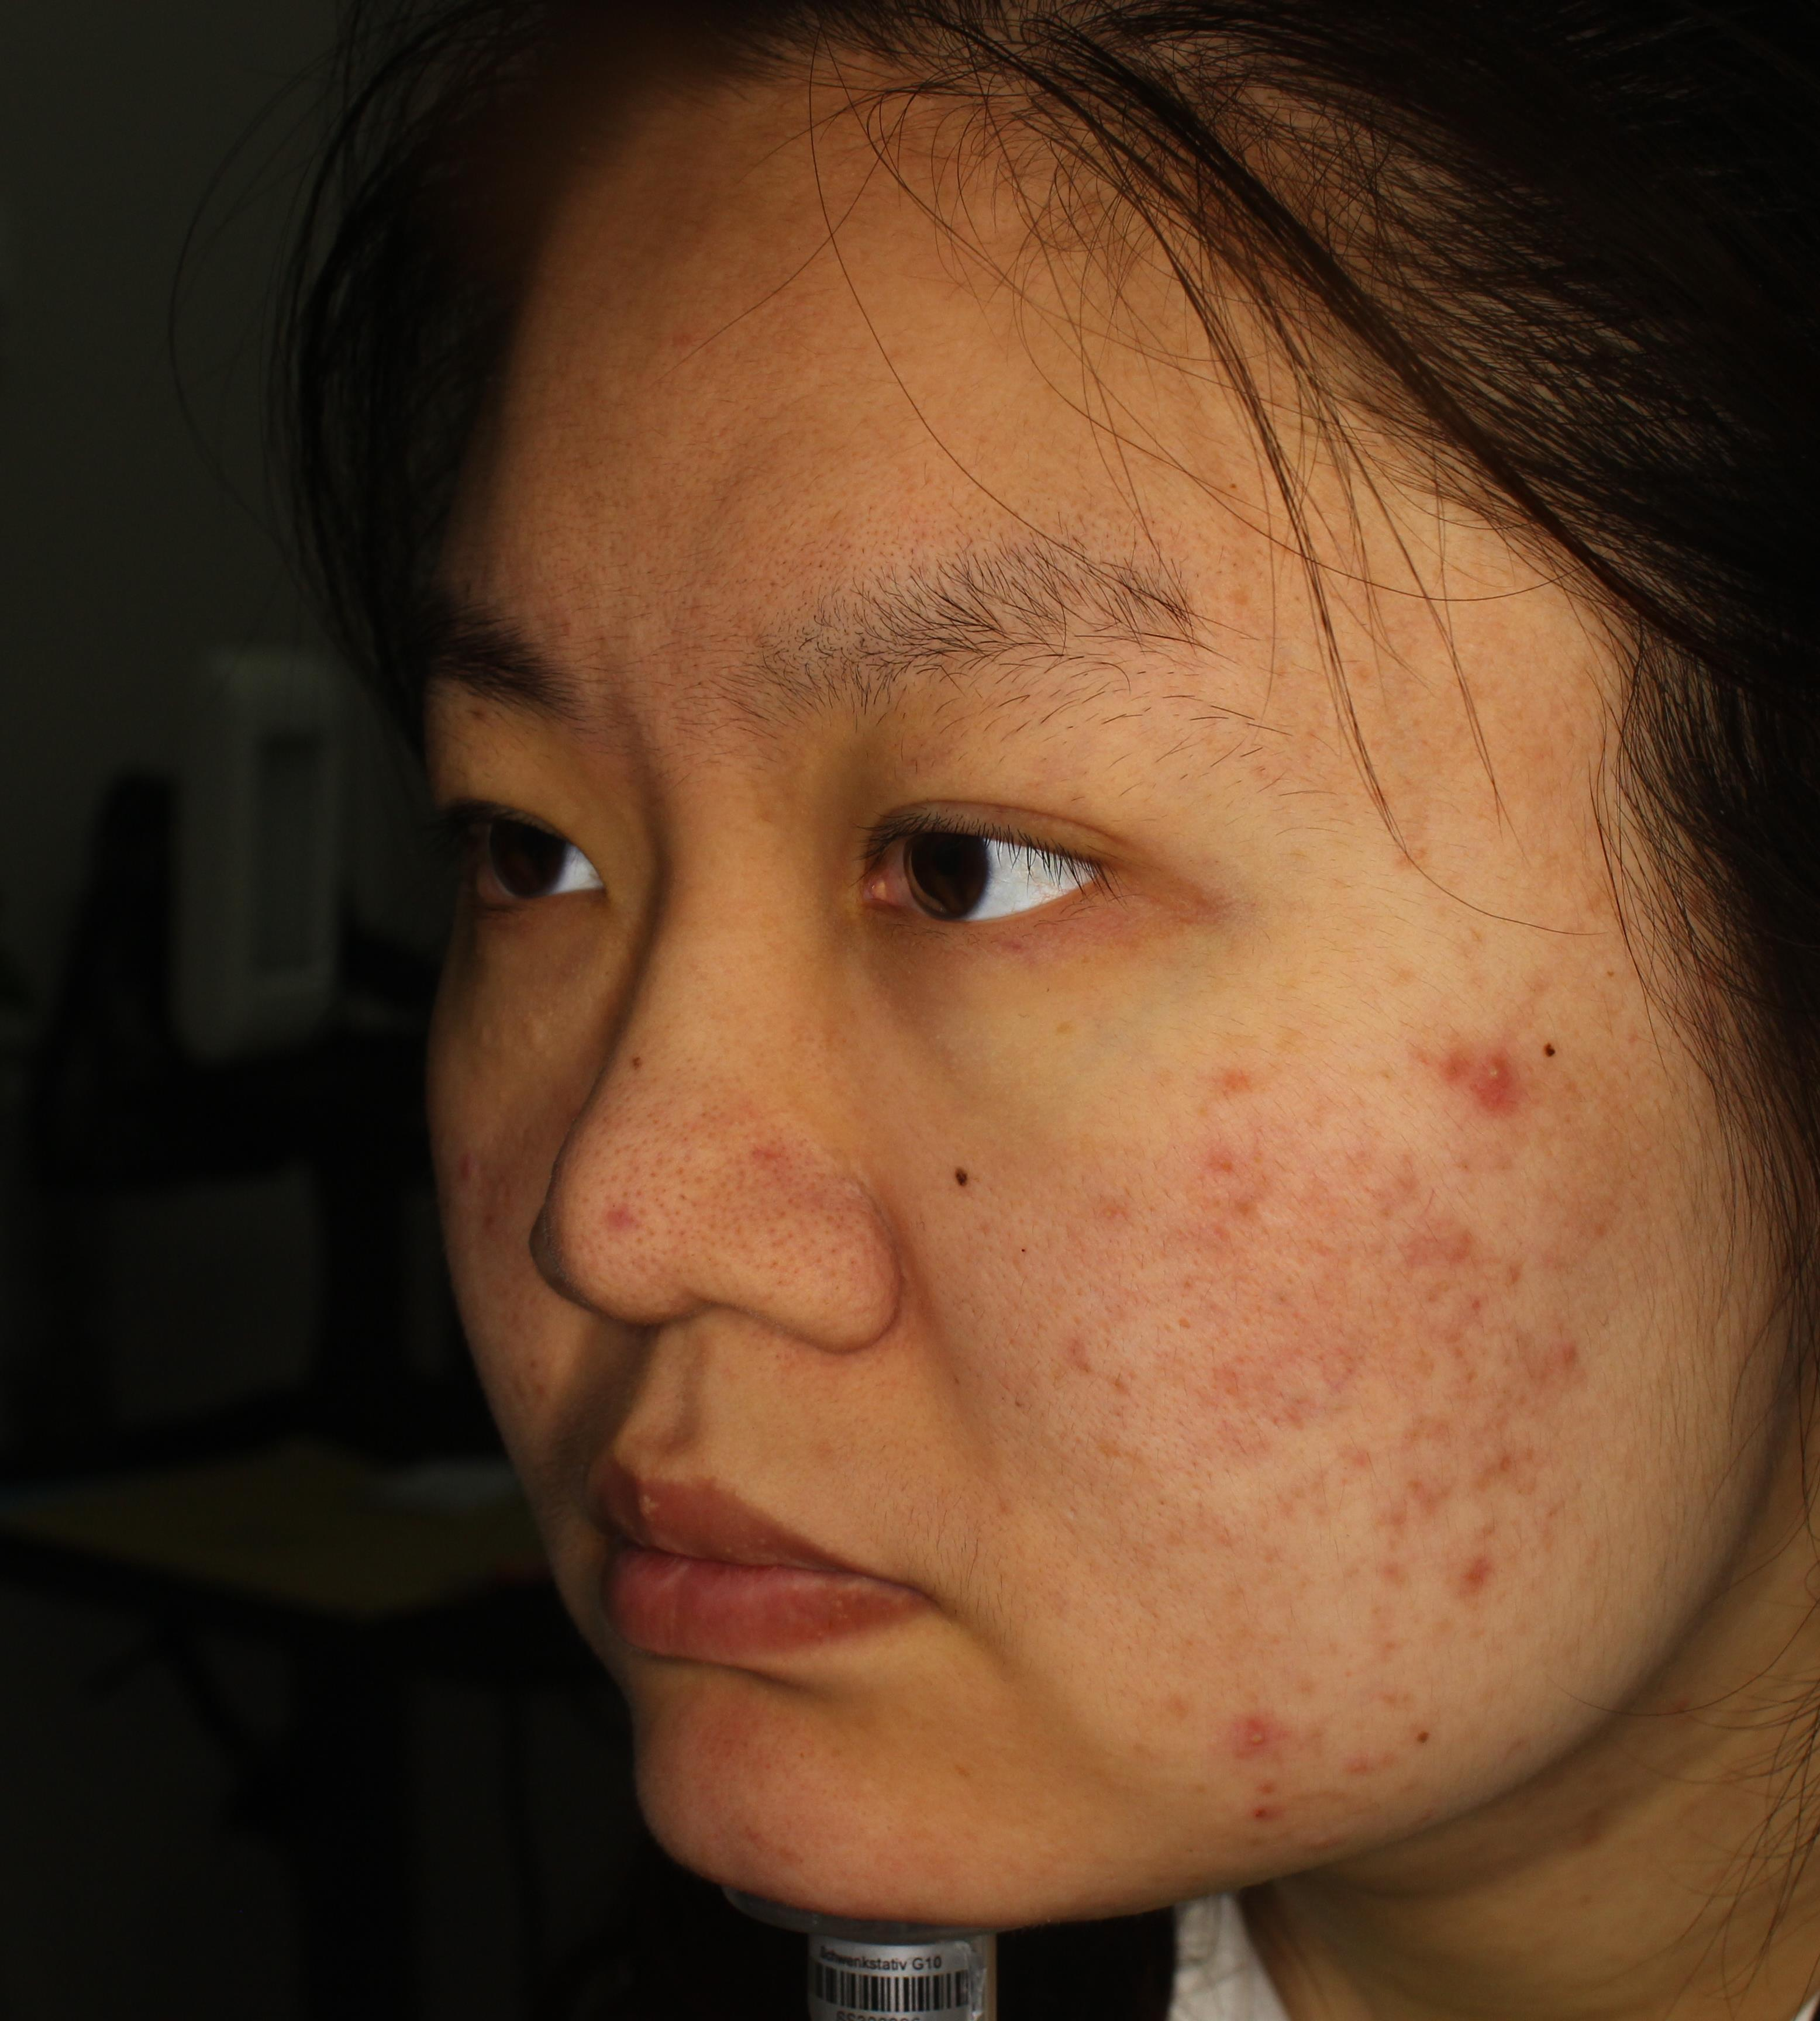fore: (1435, 1034, 1539, 1133), (1449, 1406, 1548, 1482), (1340, 1456, 1441, 1528), (1444, 1540, 1521, 1629), (1207, 1687, 1296, 1754), (1219, 1768, 1296, 1840), (1323, 1737, 1409, 1791), (1435, 1226, 1484, 1277)
